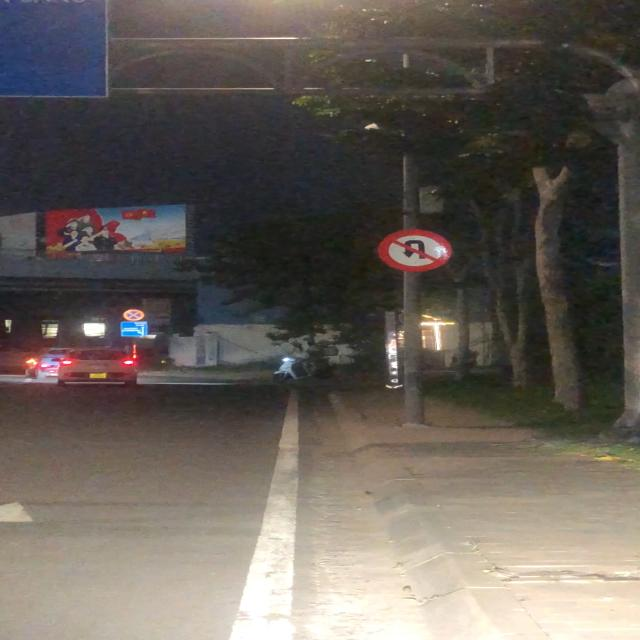Bien bao cam quay dau xe: (375, 228, 457, 274)
